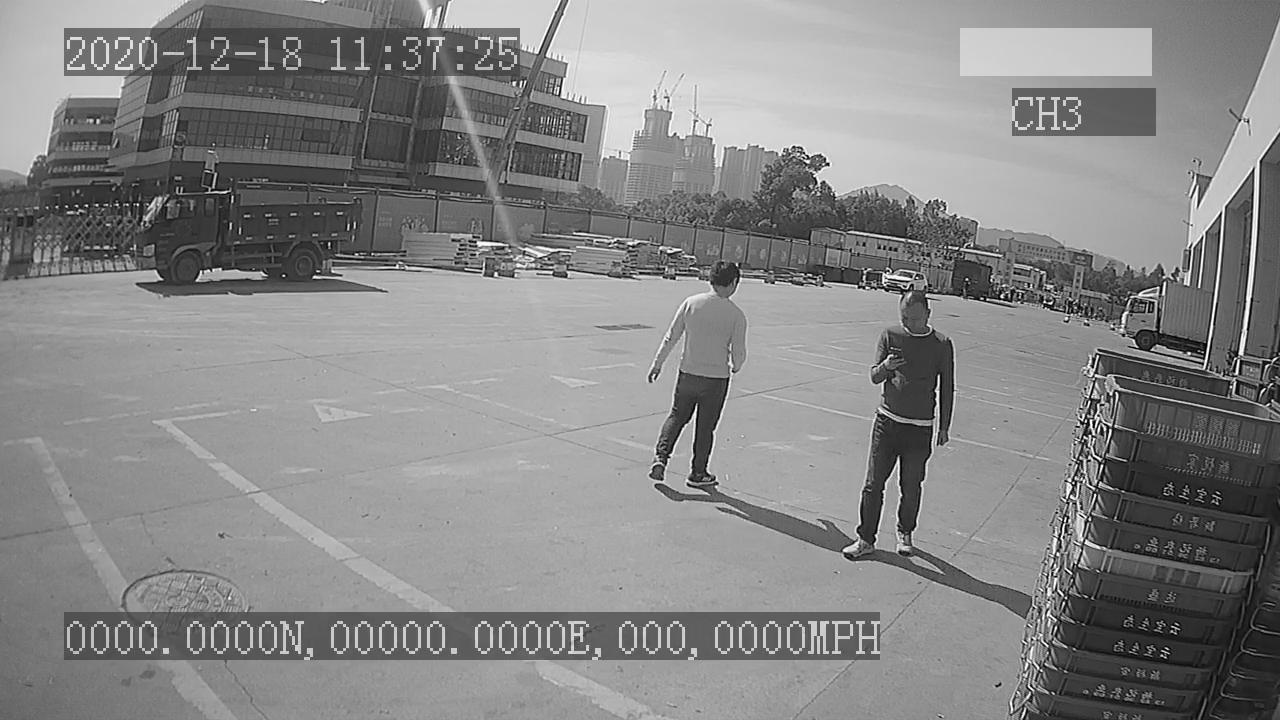person: (842, 289, 956, 567), (647, 257, 749, 494)
